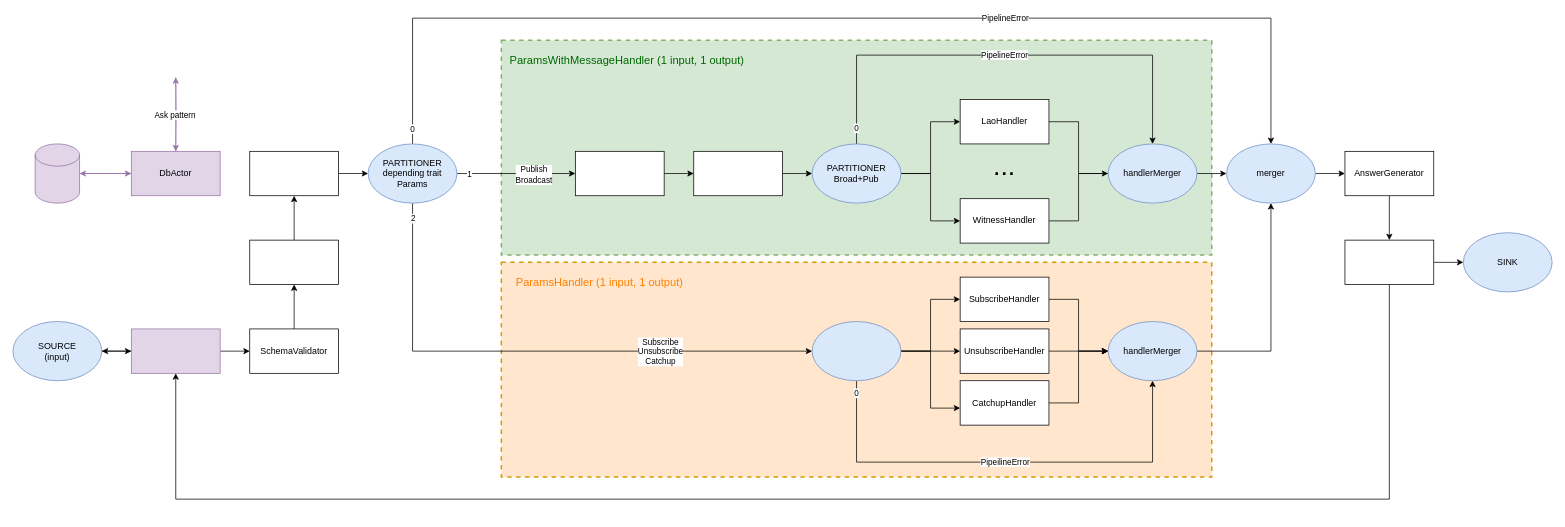
The diagram is 1565 pixels wide and 527 high, and some of its shapes have lost their labels. The box of each missing label's shape, as (x1, y1, x2, y2) in pixels:
Answerer: (1344, 239, 1434, 285)
ClientActor (represents the Source = Client): (131, 328, 220, 373)
ContentValidator from Message: (693, 151, 783, 196)
ContentValidator until Message: (249, 151, 339, 196)
DB: (34, 143, 80, 203)
Decoder (Parser) from Message: (575, 151, 664, 196)
Decoder (Parser) until Message: (249, 239, 339, 285)
PARTITIONER Sub+Unsub+Catch: (811, 321, 901, 381)
